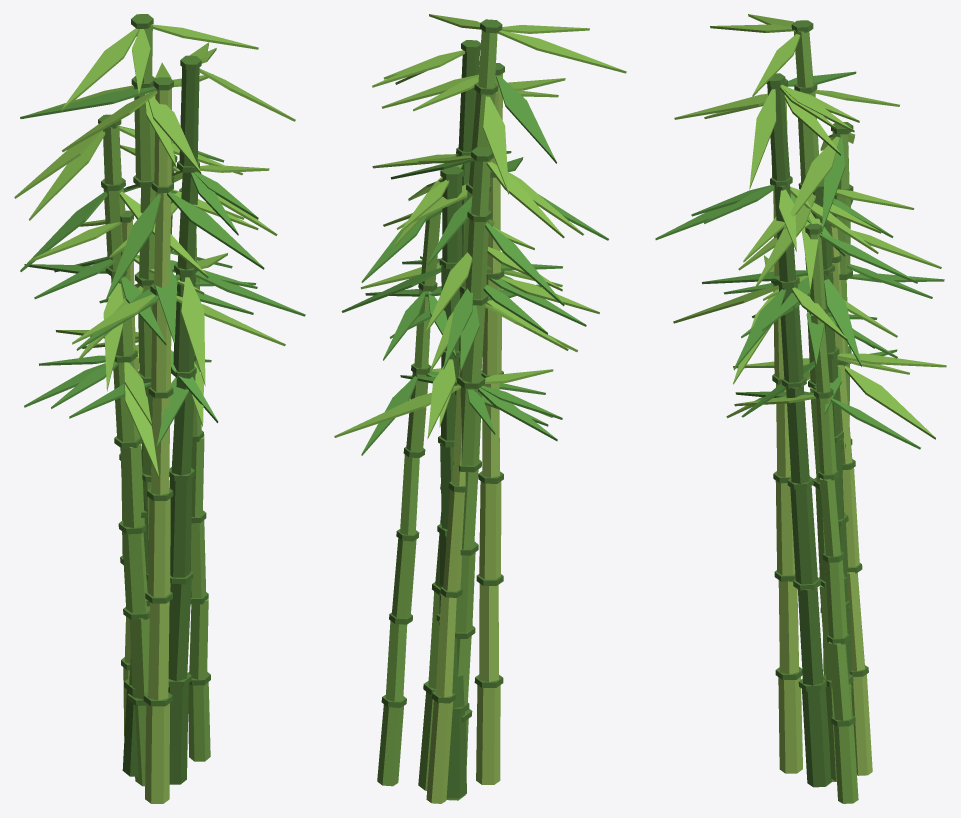
The model's file is Bamboo2.fbx.
The picture shows the model from 3 angles, left to right: view 1: azimuth 30°, elevation 25°; view 2: azimuth 150°, elevation 25°; view 3: azimuth 270°, elevation 25°; orthographic projection. The views are drawn at different scales.
Visible parts, largest first — view 1: Bamboo2_bamboo, Bamboo2_leaf_lt, Bamboo2_bamboo_dk, Bamboo2_leaf, Bamboo2_bamboo_lt; view 2: Bamboo2_bamboo, Bamboo2_bamboo_lt, Bamboo2_leaf_lt, Bamboo2_leaf, Bamboo2_bamboo_dk; view 3: Bamboo2_bamboo_dk, Bamboo2_leaf_lt, Bamboo2_bamboo, Bamboo2_bamboo_lt, Bamboo2_leaf.
Boxes of the visible parts, box(x1,y1,x2,y2) form: Bamboo2_bamboo: box(103, 24, 210, 786); Bamboo2_leaf_lt: box(14, 24, 295, 478); Bamboo2_bamboo_dk: box(98, 14, 210, 784); Bamboo2_leaf: box(20, 87, 305, 447); Bamboo2_bamboo_lt: box(121, 88, 171, 803); Bamboo2_bamboo: box(377, 30, 497, 800); Bamboo2_bamboo_lt: box(426, 73, 502, 803); Bamboo2_leaf_lt: box(334, 14, 626, 438); Bamboo2_leaf: box(341, 75, 608, 455); Bamboo2_bamboo_dk: box(381, 19, 504, 798); Bamboo2_bamboo_dk: box(766, 20, 868, 787); Bamboo2_leaf_lt: box(673, 14, 946, 439); Bamboo2_bamboo: box(793, 30, 858, 803); Bamboo2_bamboo_lt: box(771, 100, 872, 775); Bamboo2_leaf: box(655, 71, 944, 449).
Size of the model in its own units: 5.48 by 17.26 by 6.13.
